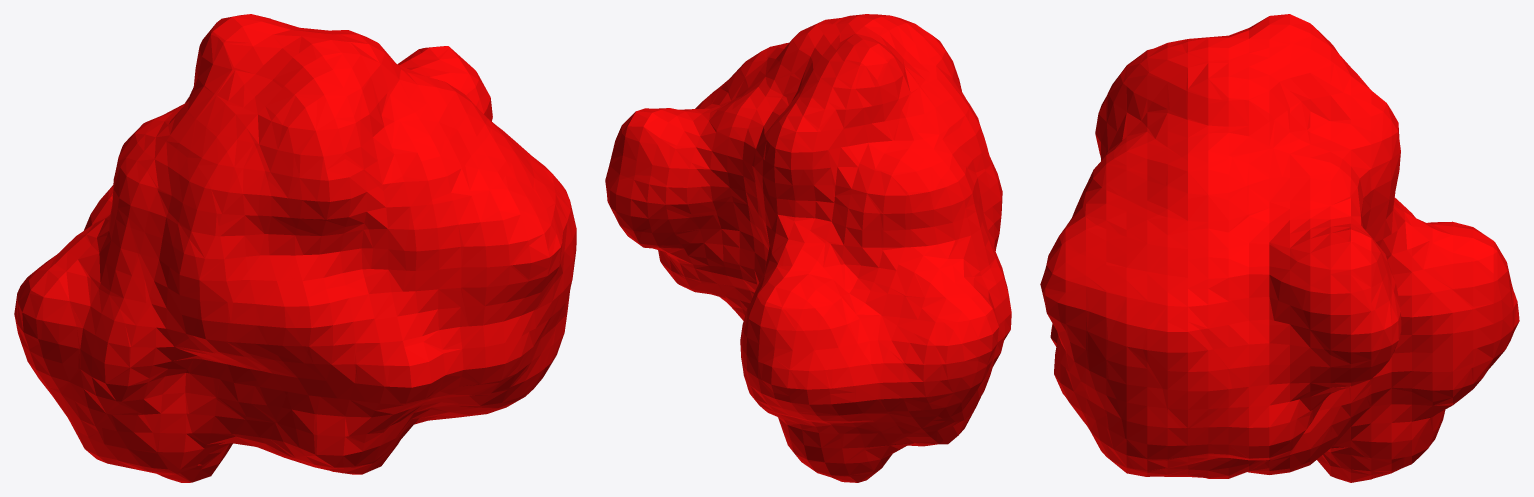
File: ydhF_coarse.dae
3 views of the same model, side by side, from view 1: azimuth 30°, elevation 25°; view 2: azimuth 150°, elevation 25°; view 3: azimuth 270°, elevation 25° (orthographic). The views are drawn at different scales.
Visible parts, largest first — view 1: ydhF; view 2: ydhF; view 3: ydhF.
Part boxes in pixels (x1=…): ydhF: x1=14, y1=14, x2=576, y2=482; ydhF: x1=605, y1=14, x2=1011, y2=482; ydhF: x1=1040, y1=14, x2=1519, y2=482.
Size of the model in its own units: 56.8 by 57.72 by 53.15.
